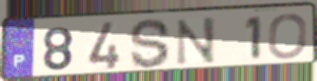1: (243, 15, 263, 61)
4: (86, 19, 123, 72)
8: (42, 26, 76, 71)
N: (174, 15, 218, 67)
O: (266, 12, 309, 61)
S: (128, 17, 173, 71)
